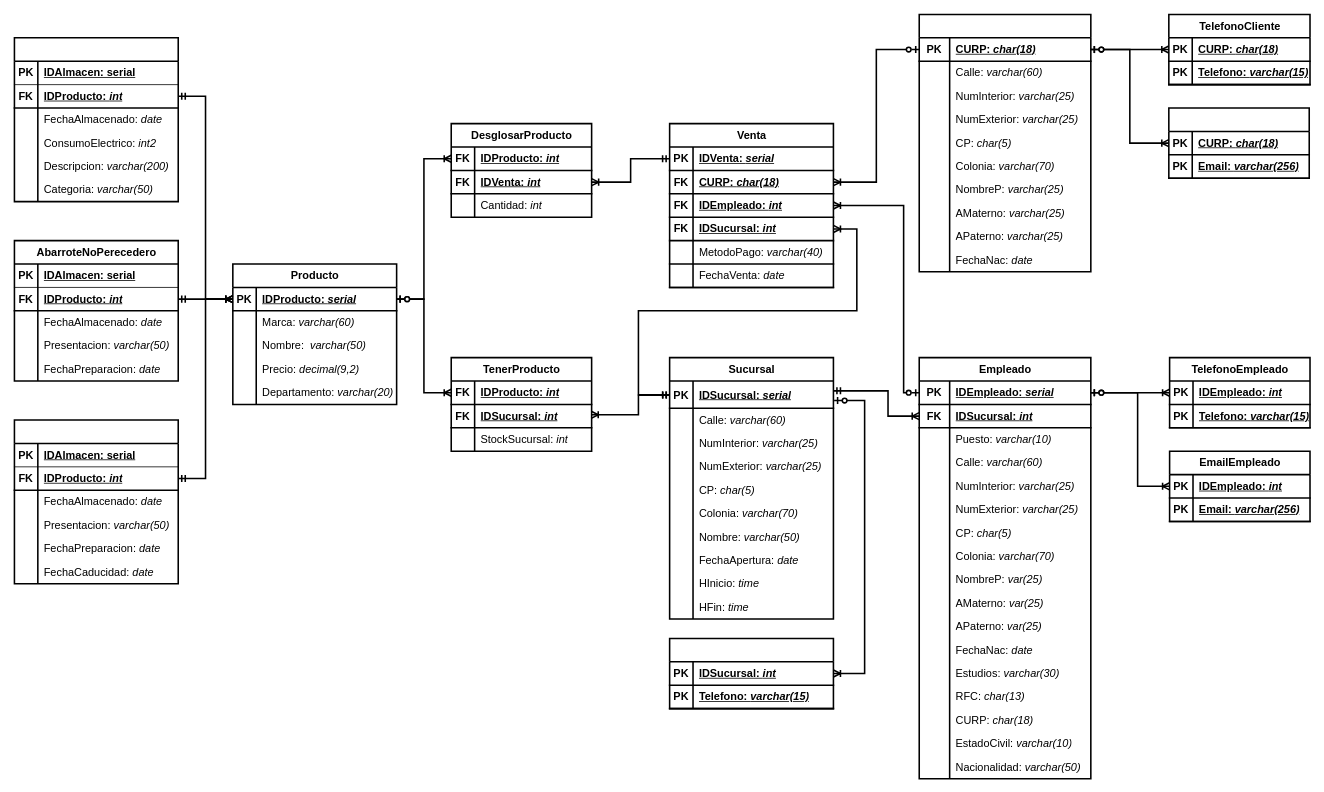
Some shapes in this 1324 by 792 pixel diagram are drawn without their labels. The shapes that lost their labels are listed below. From the top down, each one's box as (x1, y1, x2, y2) in pixels, then its label:
(13, 37, 179, 202): ElectronicaCons
(918, 13, 1091, 272): Cliente
(1168, 107, 1310, 179): EmailCliente
(13, 419, 179, 584): AbarrotePerecedero
(668, 637, 834, 709): TelefonoSucursal
